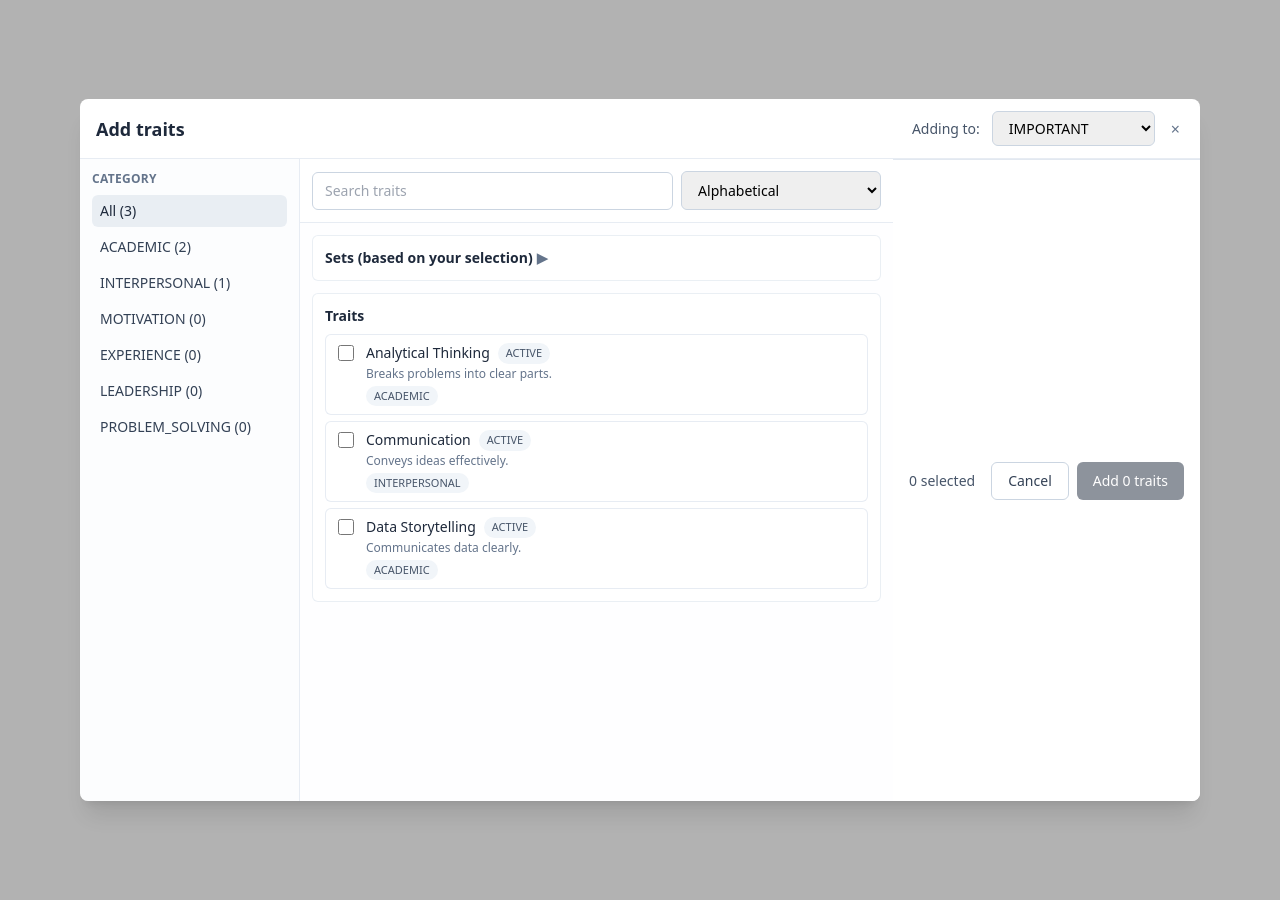
Test: TraitPickerModal › selects an individual trait into the Selected rail
Click the checkbox named "Communication": (346, 440) x1=338 y1=432 x2=354 y2=448
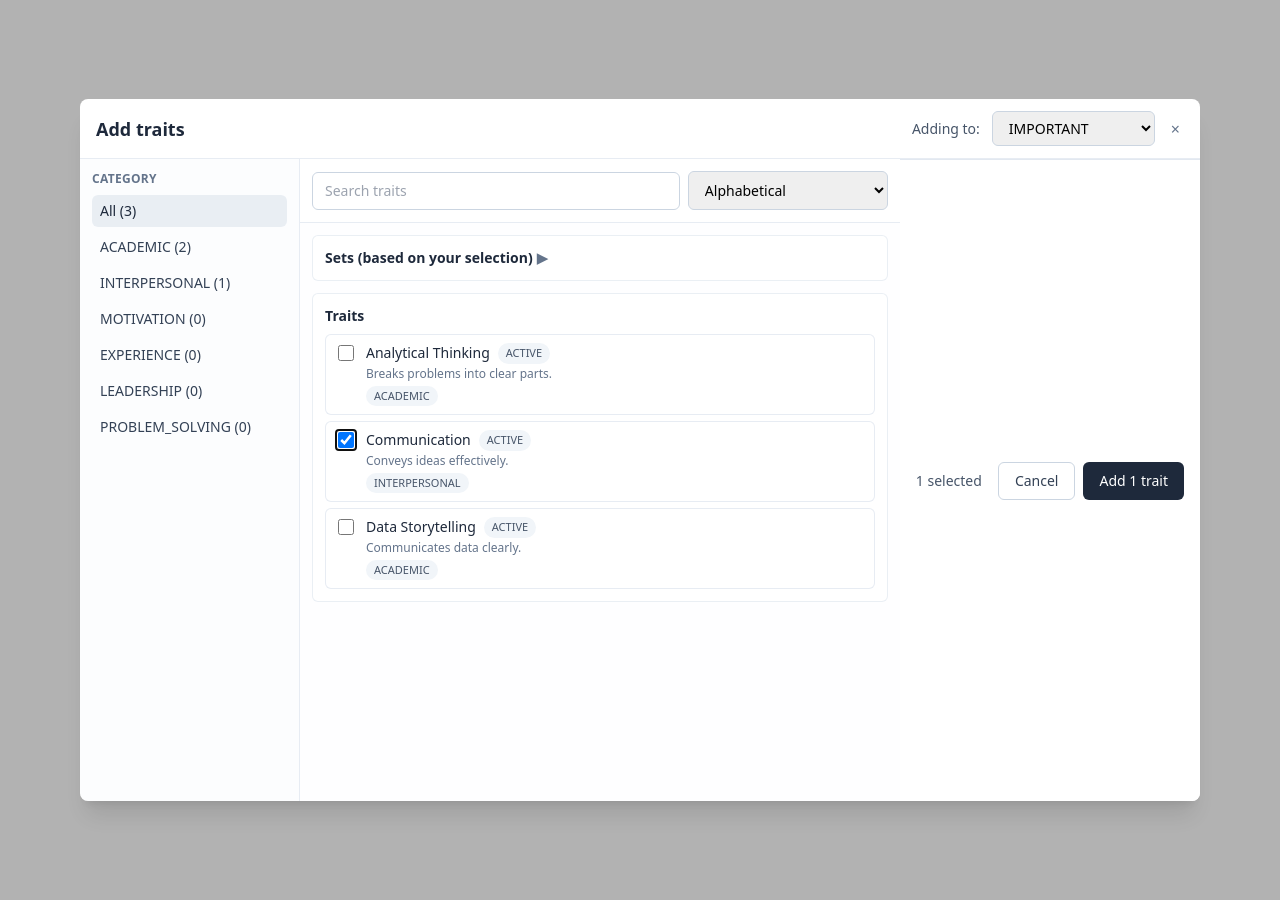
Check: the button with aria-label "Add 1 traits" is shown, box x1=1084 y1=462 x2=1184 y2=500
Check: the text "1 selected" is shown, box x1=916 y1=470 x2=982 y2=490
